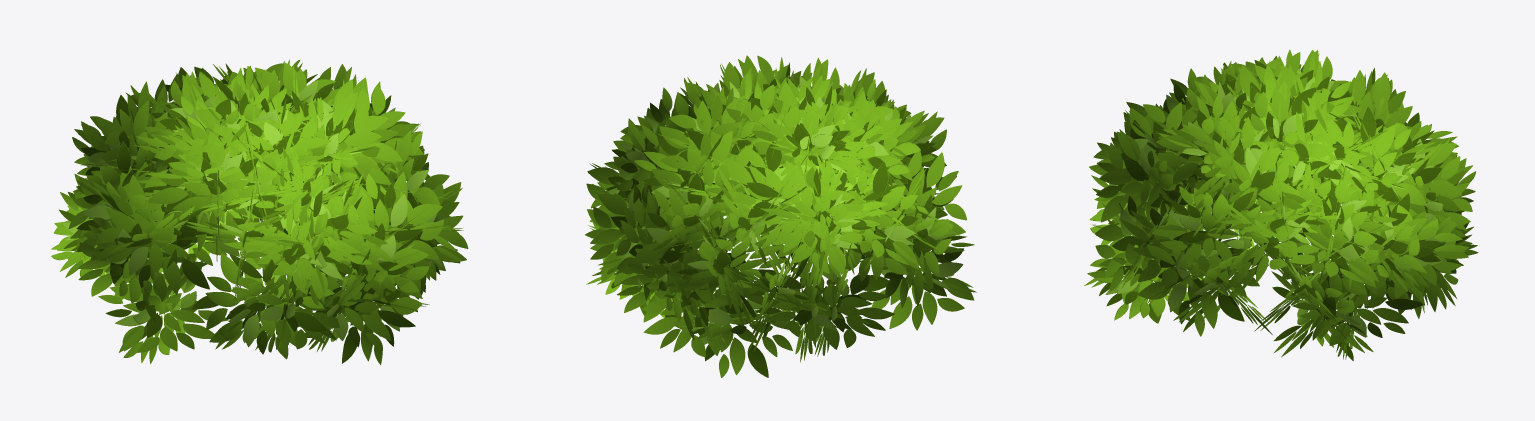
Rendered from BushUN.fbx.
3 views of the same model, side by side, from view 1: azimuth 30°, elevation 25°; view 2: azimuth 150°, elevation 25°; view 3: azimuth 270°, elevation 25° (orthographic). The views are drawn at different scales.
Parts seen in each view (by area): view 1: LeavesBush; view 2: LeavesBush; view 3: LeavesBush.
Part boxes in pixels (x1=…): LeavesBush: x1=51, y1=59, x2=468, y2=364; LeavesBush: x1=585, y1=55, x2=976, y2=377; LeavesBush: x1=1084, y1=49, x2=1478, y2=360.
Size of the model in its own units: 2.61 by 1.88 by 2.62.
